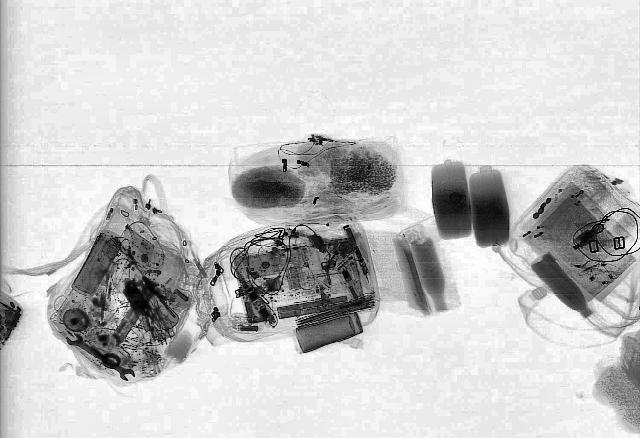Wrench: (61, 330, 141, 384)
